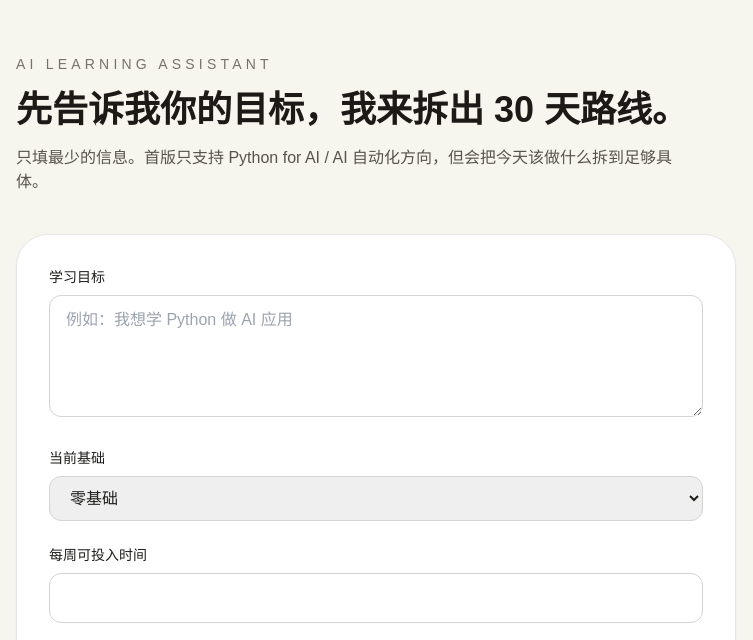
Test: shows inline error when roadmap generation fails
In the text box labelled "学习目标": (376, 356) [49, 295, 703, 417], type "我想学 Python 做 AI 应用"
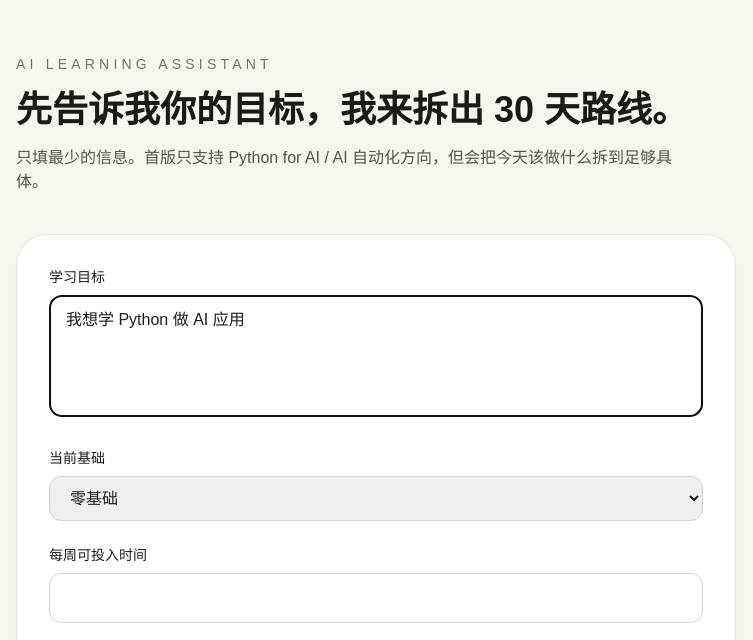
In the number field labelled "每周可投入时间": (376, 598) [49, 573, 703, 623], type "240"
(page scrolled)
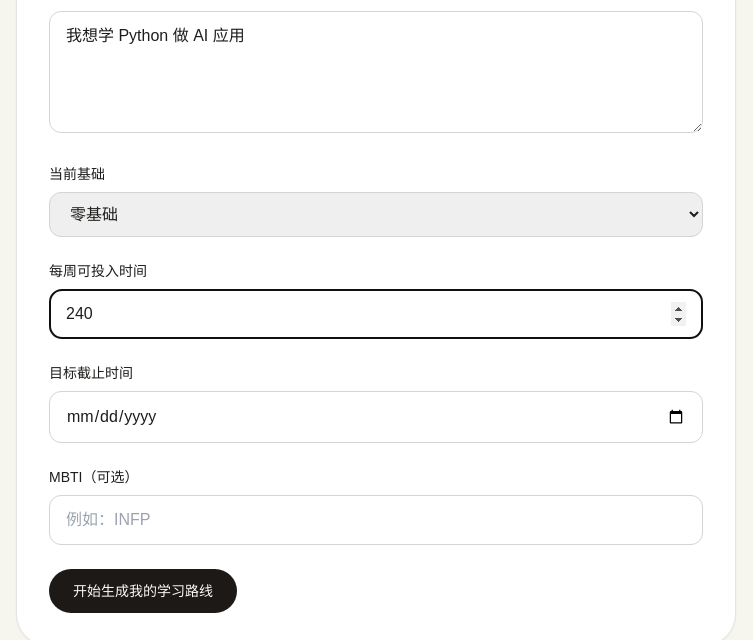
In the date field labelled "目标截止时间": (376, 417) [49, 391, 703, 443], type "2026-05-05"
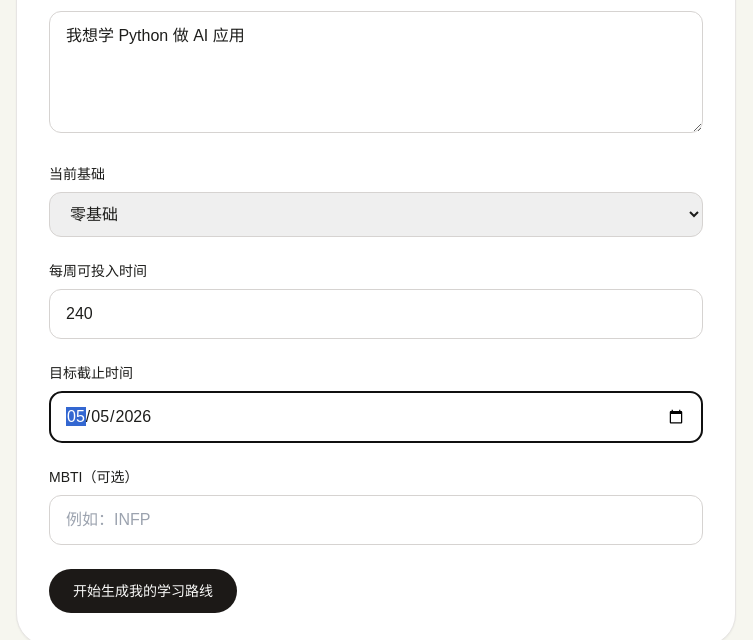
Click the button "开始生成我的学习路线": (143, 591) [49, 569, 237, 613]
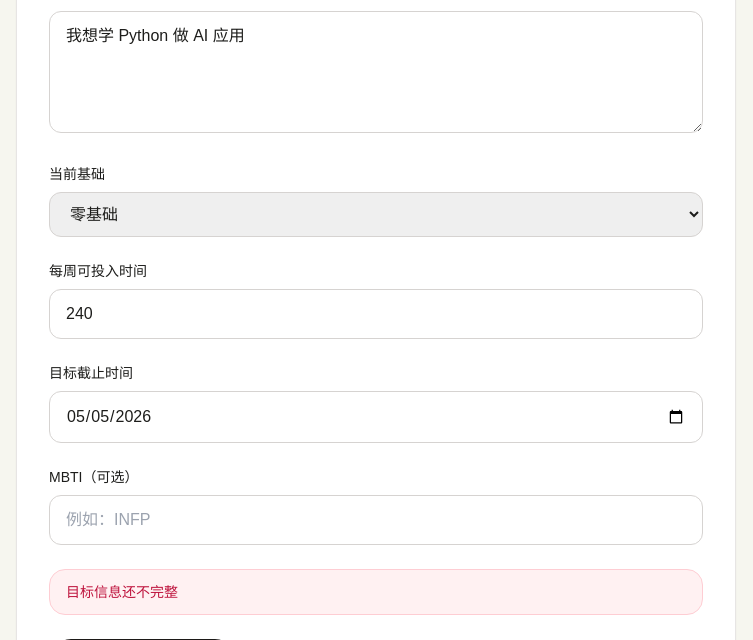
Now the message reads "目标信息还不完整", box [66, 584, 178, 600]
